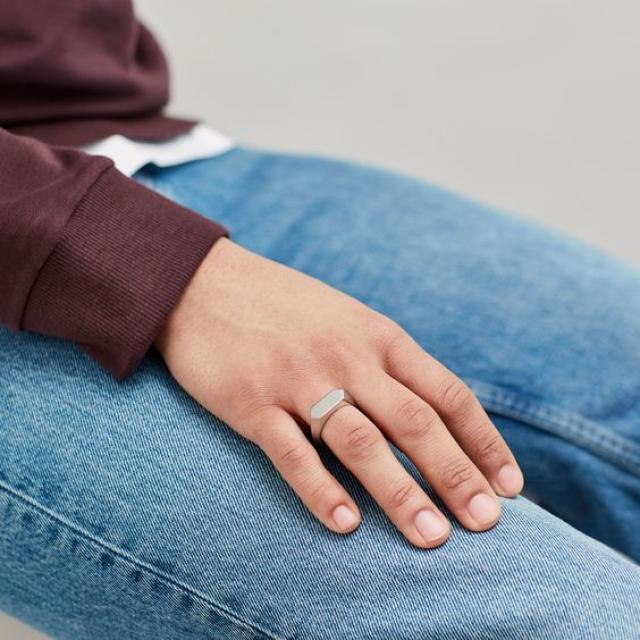Fingernail: (414, 509, 446, 541), (468, 494, 497, 524), (498, 465, 523, 494), (332, 504, 358, 531)
